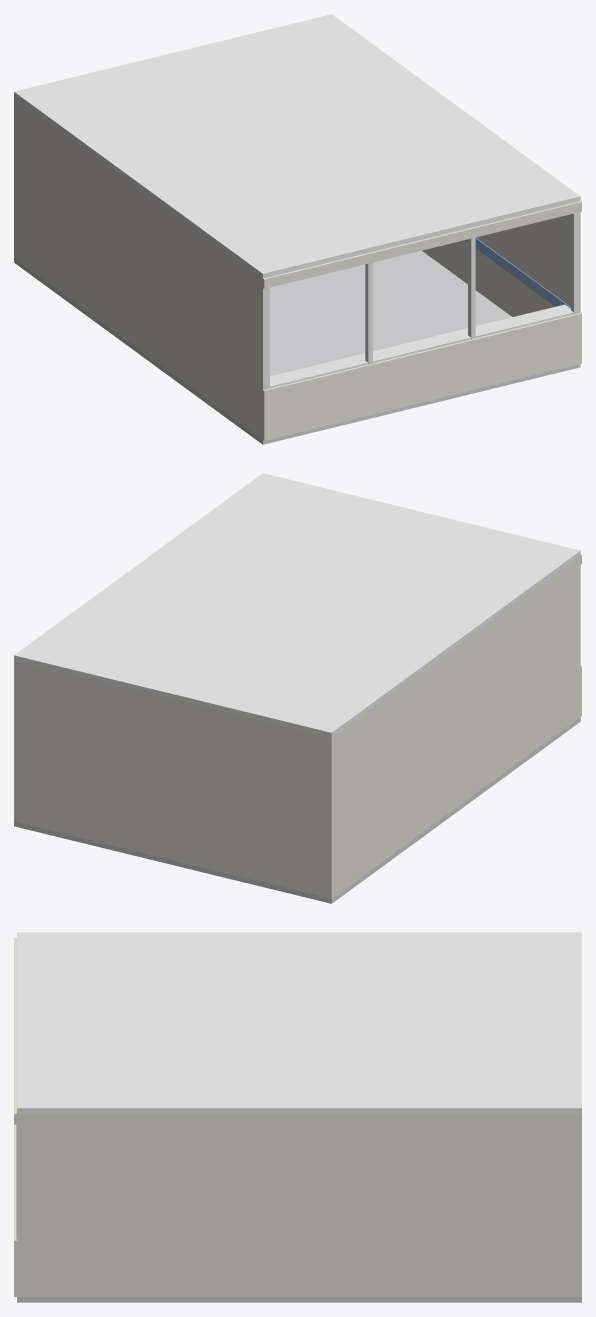
The model's file is Ward.obj.
The picture shows the model from 3 angles, top to bottom: view 1: azimuth 30°, elevation 25°; view 2: azimuth 150°, elevation 25°; view 3: azimuth 270°, elevation 25°; orthographic projection. The views are drawn at different scales.
Visible parts, largest first — view 1: Ward; view 2: Ward; view 3: Ward.
Boxes of the visible parts, bbox=[...] form: Ward: bbox=[14, 14, 581, 444]; Ward: bbox=[14, 473, 581, 903]; Ward: bbox=[14, 932, 581, 1302].
Size of the model in its own units: 7 by 3.6 by 9.55.
1 material, 1 textured.
